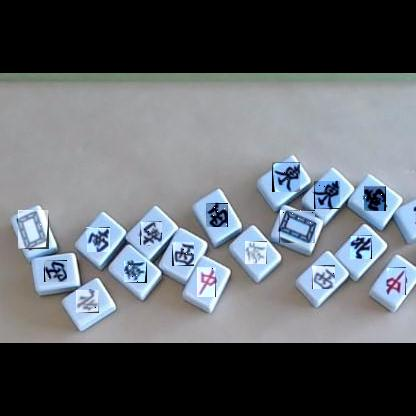1z: (272, 162, 300, 192), (314, 181, 340, 209)
2z: (86, 227, 110, 252), (364, 186, 386, 211), (140, 221, 162, 245)
3z: (312, 265, 335, 289), (206, 203, 228, 227), (172, 242, 194, 266), (44, 260, 67, 282)
4z: (76, 290, 99, 313), (350, 235, 372, 259)
5z: (18, 210, 49, 249), (279, 210, 315, 243)
6z: (245, 241, 267, 264), (124, 261, 147, 283)
7z: (197, 267, 216, 297), (386, 267, 406, 295)
